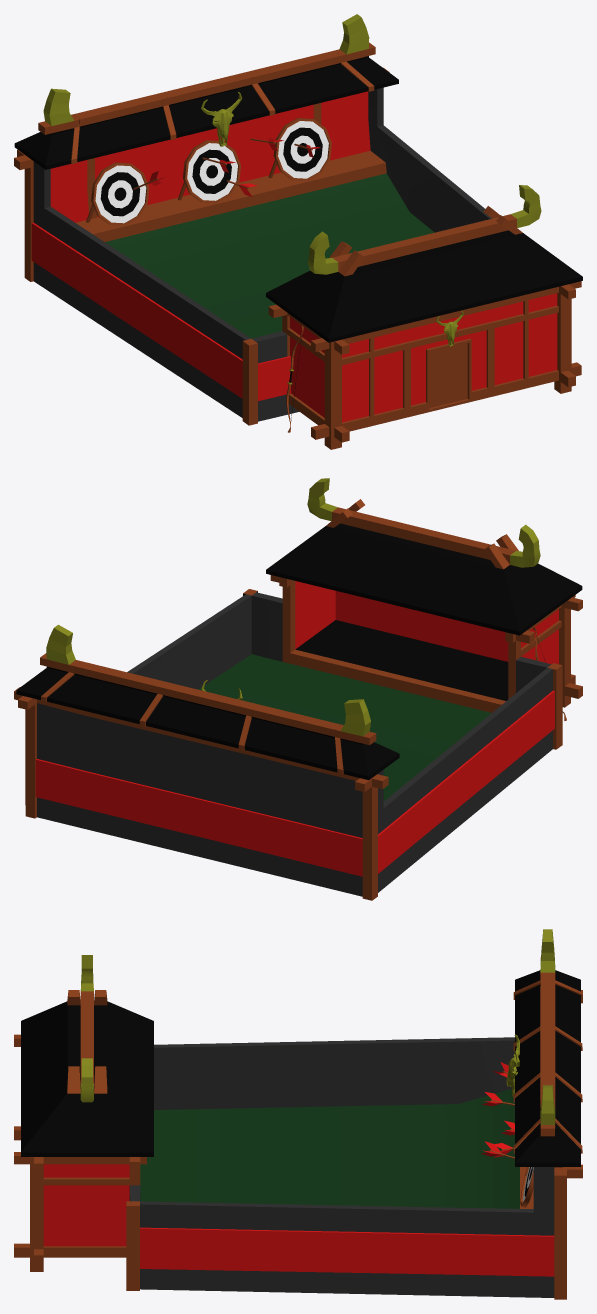
Rendered from archer.FBX.
3 renders of one model, top to bottom at view 1: azimuth 30°, elevation 25°; view 2: azimuth 150°, elevation 25°; view 3: azimuth 270°, elevation 25°, orthographic. The views are drawn at different scales.
Parts seen in each view (by area): view 1: archer; view 2: archer; view 3: archer.
Part boxes in pixels (box(x1,y1,x2,y2)): archer: box(14, 14, 582, 449); archer: box(14, 478, 582, 900); archer: box(14, 929, 582, 1299).
Bounding box in the file's own units: 65.23 × 32.33 × 81.97.
